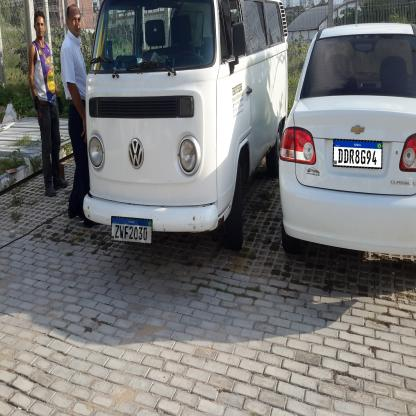PlacaM: (333, 139, 382, 169), (110, 216, 152, 245)
